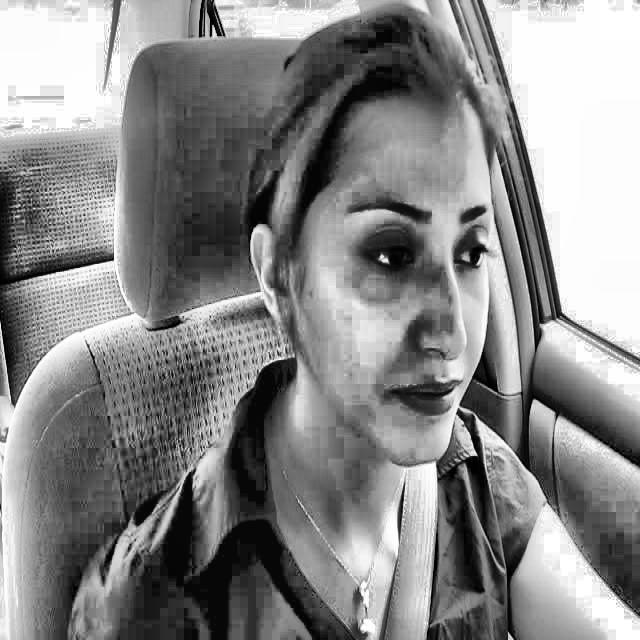closed_mouth: (372, 358, 494, 439)
open_eyes: (340, 217, 423, 291), (445, 223, 501, 286)
